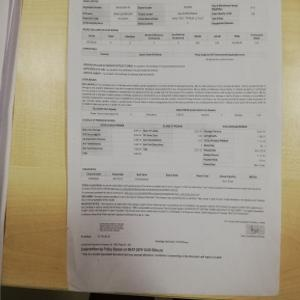table: (79, 123, 274, 166), (81, 28, 270, 50)
text: (81, 61, 269, 106), (79, 181, 268, 219)
